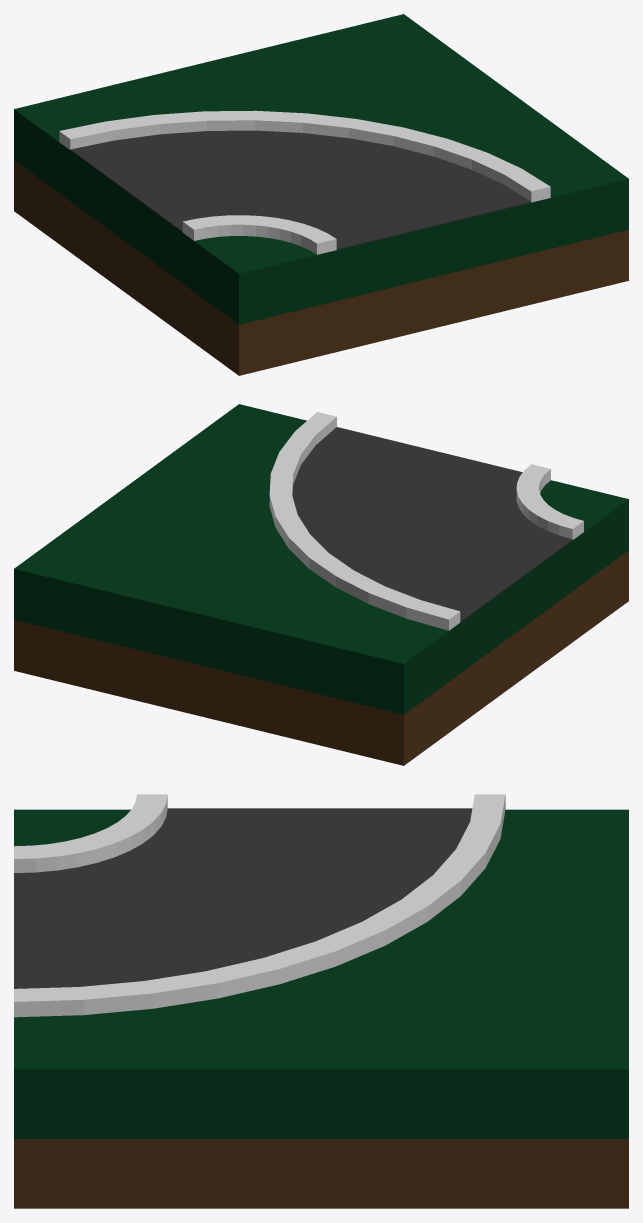
The model's file is Block_4.fbx.
3 renders of one model, top to bottom at view 1: azimuth 30°, elevation 25°; view 2: azimuth 150°, elevation 25°; view 3: azimuth 270°, elevation 25°, orthographic. The views are drawn at different scales.
Parts seen in each view (by area): view 1: Block_4; view 2: Block_4; view 3: Block_4.
Boxes of the visible parts, x1=… form: Block_4: x1=14, y1=14, x2=628, y2=375; Block_4: x1=14, y1=404, x2=628, y2=765; Block_4: x1=14, y1=794, x2=628, y2=1208.
Bounding box in the file's own units: 400 × 111 × 400.
